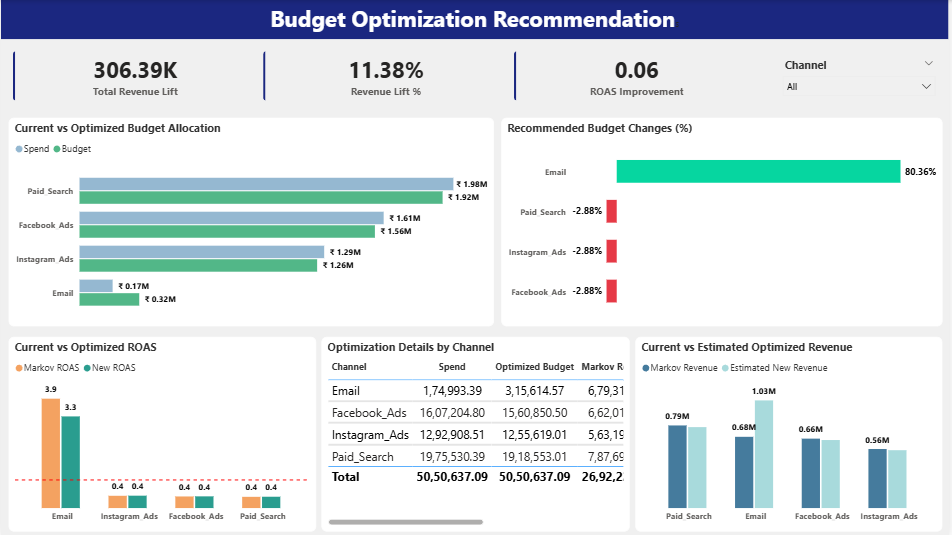

What the dashboard file says about the page in this screenshot:
{"tool":"powerbi","page":{"name":"Budget Optimization","canvas":[1380,780],"ordinal":3},"visuals":[{"type":"textbox","box":[0,0,1379.2,57.3],"z":0},{"type":"cardVisual","fields":{"Data":["budget_optimization.Total Revenue Lift","budget_optimization.Revenue Lift %","budget_optimization.ROAS Improvement"]},"box":[0,57.1,1121.8,106.3],"z":1000},{"type":"tableEx","title":"Optimization Details by Channel","fields":{"Values":["budget_optimization.channel","Sum(budget_optimization.spend)","Sum(budget_optimization.optimized_budget)","Sum(budget_optimization.markov_revenue)","Sum(budget_optimization.estimated_new_revenue)","Sum(budget_optimization.markov_roas)","Sum(budget_optimization.new_roas)"]},"box":[466.1,490.2,448.8,283.1],"z":2000},{"type":"slicer","fields":{"Values":["channel_summary.channel"]},"box":[1128.9,77.7,241.7,72.5],"z":3000},{"type":"clusteredColumnChart","title":"Current vs Optimized ROAS","fields":{"Category":["channel_summary.channel"],"Y":["Sum(budget_optimization.markov_roas)","Sum(budget_optimization.new_roas)"]},"box":[10.4,490.2,448,283.1],"z":4000},{"type":"clusteredBarChart","title":"Current vs Optimized Budget Allocation","fields":{"Category":["budget_optimization.channel"],"Y":["Sum(budget_optimization.spend)","Sum(budget_optimization.optimized_budget)"]},"box":[10.4,170.9,706,303.8],"z":5000},{"type":"clusteredBarChart","title":"Recommended Budget Changes (%)","fields":{"Category":["budget_optimization.channel"],"Y":["budget_optimization.Budget Change %"]},"box":[728.4,170.9,642.1,303.8],"z":6000},{"type":"clusteredColumnChart","title":"Current vs Estimated Optimized Revenue","fields":{"Category":["channel_summary.channel"],"Y":["Sum(budget_optimization.markov_revenue)","Sum(budget_optimization.estimated_new_revenue)"]},"box":[923.5,490.2,447.1,283.1],"z":7000}]}

Visuals, with their boxes in screenshot pixels (x1, y1, x2, y2), scaled from the page's 1380x780 canvas onto the 952x535 screenshot:
textbox: (0,0,951,39)
cardVisual - budget_optimization.Total Revenue Lift x budget_optimization.Revenue Lift %: (0,39,774,112)
"Optimization Details by Channel" tableEx: (322,336,631,530)
slicer - channel_summary.channel: (779,53,946,103)
"Current vs Optimized ROAS" clusteredColumnChart: (7,336,316,530)
"Current vs Optimized Budget Allocation" clusteredBarChart: (7,117,494,326)
"Recommended Budget Changes (%)" clusteredBarChart: (502,117,945,326)
"Current vs Estimated Optimized Revenue" clusteredColumnChart: (637,336,946,530)
